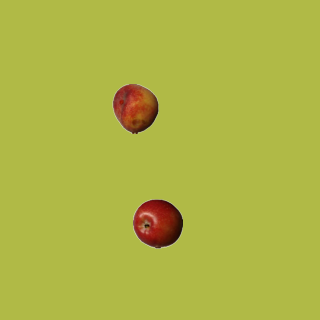Apple Braeburn: (132, 198, 182, 248)
Peach: (110, 83, 160, 133)
